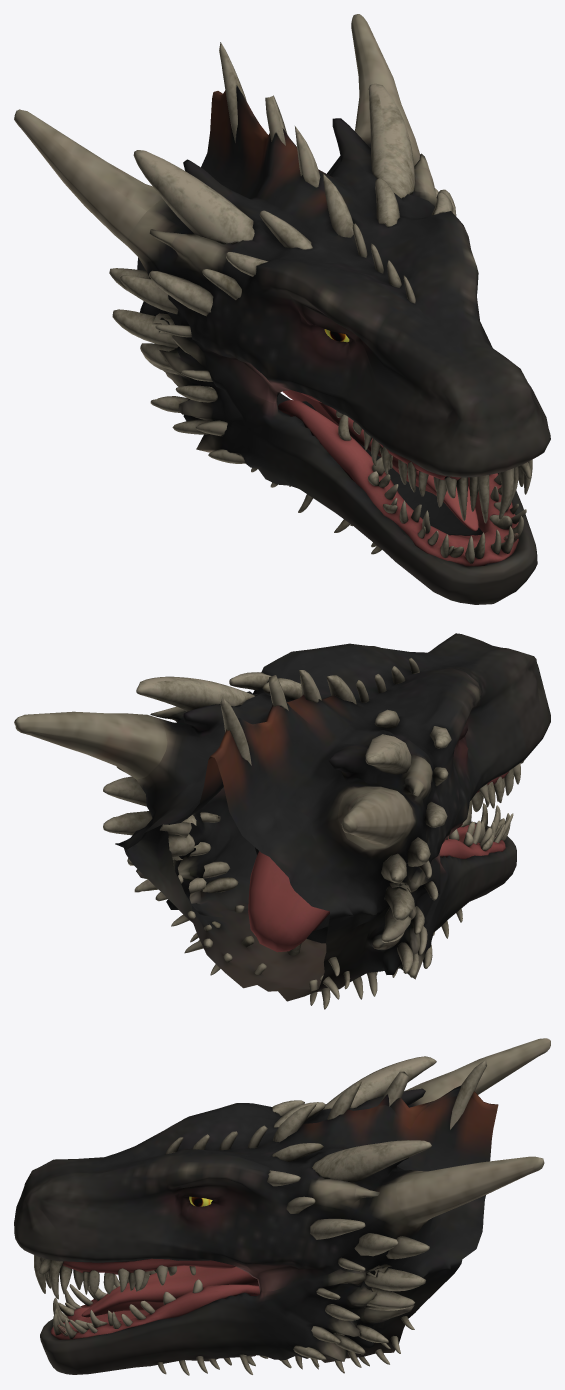
Rendered from dragon_00006.obj.
The picture shows the model from 3 angles, top to bottom: view 1: azimuth 30°, elevation 25°; view 2: azimuth 150°, elevation 25°; view 3: azimuth 270°, elevation 25°; orthographic projection. The views are drawn at different scales.
Parts seen in each view (by area): view 1: Dragon_Untitled; view 2: Dragon_Untitled; view 3: Dragon_Untitled.
Boxes of the visible parts, <box> form: Dragon_Untitled: <box>14,14,550,604</box>; Dragon_Untitled: <box>14,633,550,1009</box>; Dragon_Untitled: <box>14,1038,550,1375</box>.
Size of the model in its own units: 2.72 by 2.83 by 4.46.
